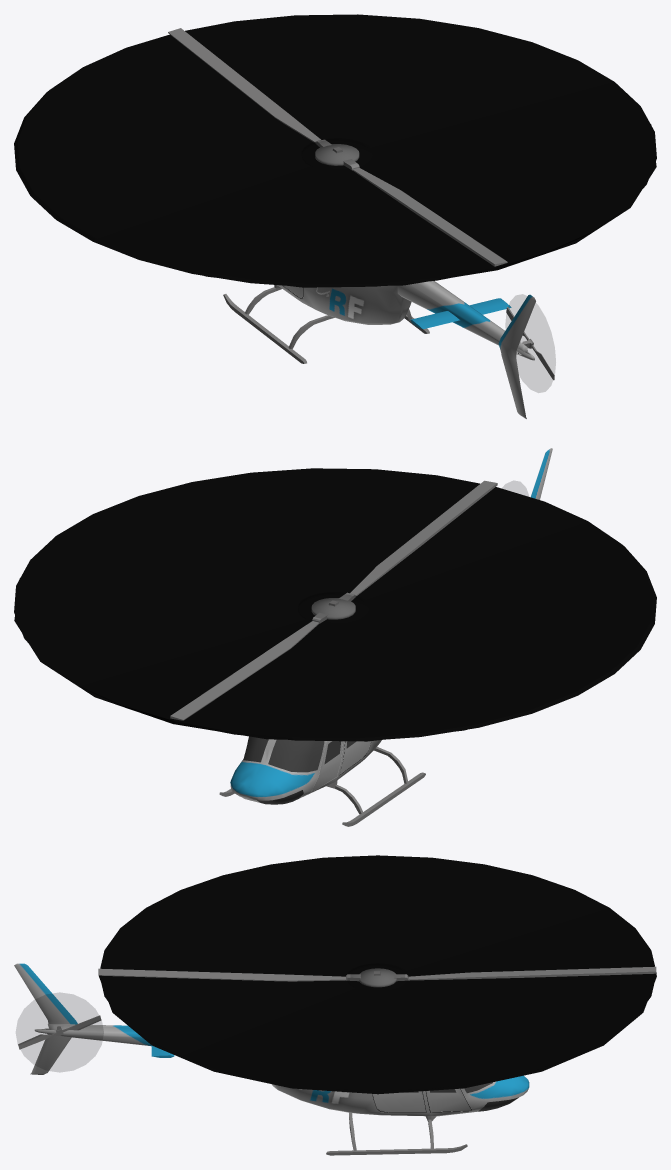
Rendered from bell_cw.gltf.
3 renders of one model, top to bottom at view 1: azimuth 30°, elevation 25°; view 2: azimuth 150°, elevation 25°; view 3: azimuth 270°, elevation 25°, orthographic. The views are drawn at different scales.
Parts seen in each view (by area): view 1: Cone, Layer:0_Material #25_0.006, Layer:0__0.001, Cylinder.003, Cylinder.001, Layer:0__0, Cylinder.002; view 2: Cone, Layer:0_Material #25_0.006, Layer:0__0.001, Layer:0_01 - Default_0, Cylinder.001, Layer:0__0, Cylinder.002; view 3: Cone, Layer:0_Material #25_0.006, Cylinder.003, Layer:0__0.001, Cylinder, Cylinder.001, Layer:0__0, Cylinder.002, Layer:0_01 - Default_0, Layer:0__0.002.
Part boxes in pixels (<box>): Cone: <box>14,14,656,287</box>; Layer:0_Material #25_0.006: <box>277,281,535,418</box>; Layer:0__0.001: <box>168,28,507,266</box>; Cylinder.003: <box>506,294,555,392</box>; Cylinder.001: <box>302,138,372,170</box>; Layer:0__0: <box>223,285,533,363</box>; Cylinder.002: <box>315,144,359,165</box>; Cone: <box>14,468,656,741</box>; Layer:0_Material #25_0.006: <box>230,448,552,803</box>; Layer:0__0.001: <box>170,480,497,720</box>; Layer:0_01 - Default_0: <box>243,736,356,804</box>; Cylinder.001: <box>298,592,368,624</box>; Layer:0__0: <box>219,746,425,826</box>; Cylinder.002: <box>311,598,355,619</box>; Cone: <box>99,855,656,1091</box>; Layer:0_Material #25_0.006: <box>14,963,529,1116</box>; Cylinder.003: <box>16,993,103,1071</box>; Layer:0__0.001: <box>98,966,656,981</box>; Cylinder: <box>99,975,656,1094</box>; Cylinder.001: <box>348,963,408,991</box>; Layer:0__0: <box>56,1026,467,1155</box>; Cylinder.002: <box>359,968,396,987</box>; Layer:0_01 - Default_0: <box>404,1082,518,1111</box>; Layer:0__0.002: <box>18,1015,101,1049</box>.
Size of the model in its own units: 157 by 49.41 by 179.
Materials: 8 (1 with a texture image).
